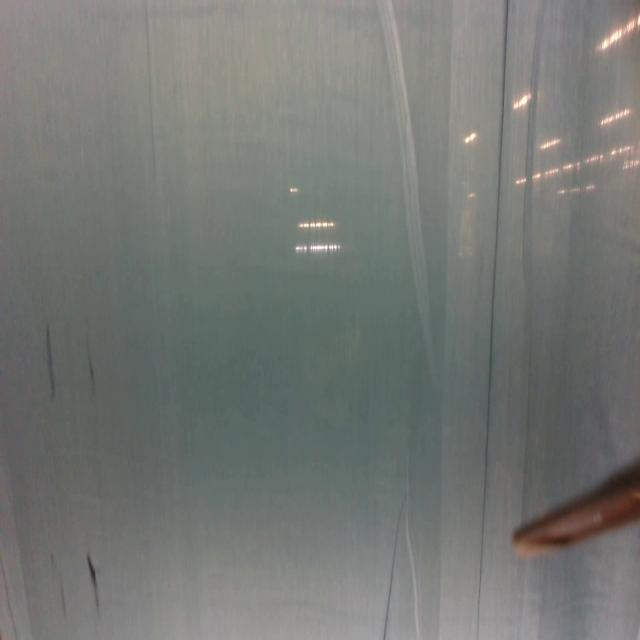crease: (472, 0, 512, 640), (380, 0, 440, 375), (520, 0, 548, 515), (380, 490, 406, 640), (144, 0, 159, 177), (0, 556, 17, 640)
hole: (42, 322, 58, 402), (86, 550, 99, 614), (86, 336, 97, 401), (59, 577, 66, 618), (50, 553, 55, 572)
